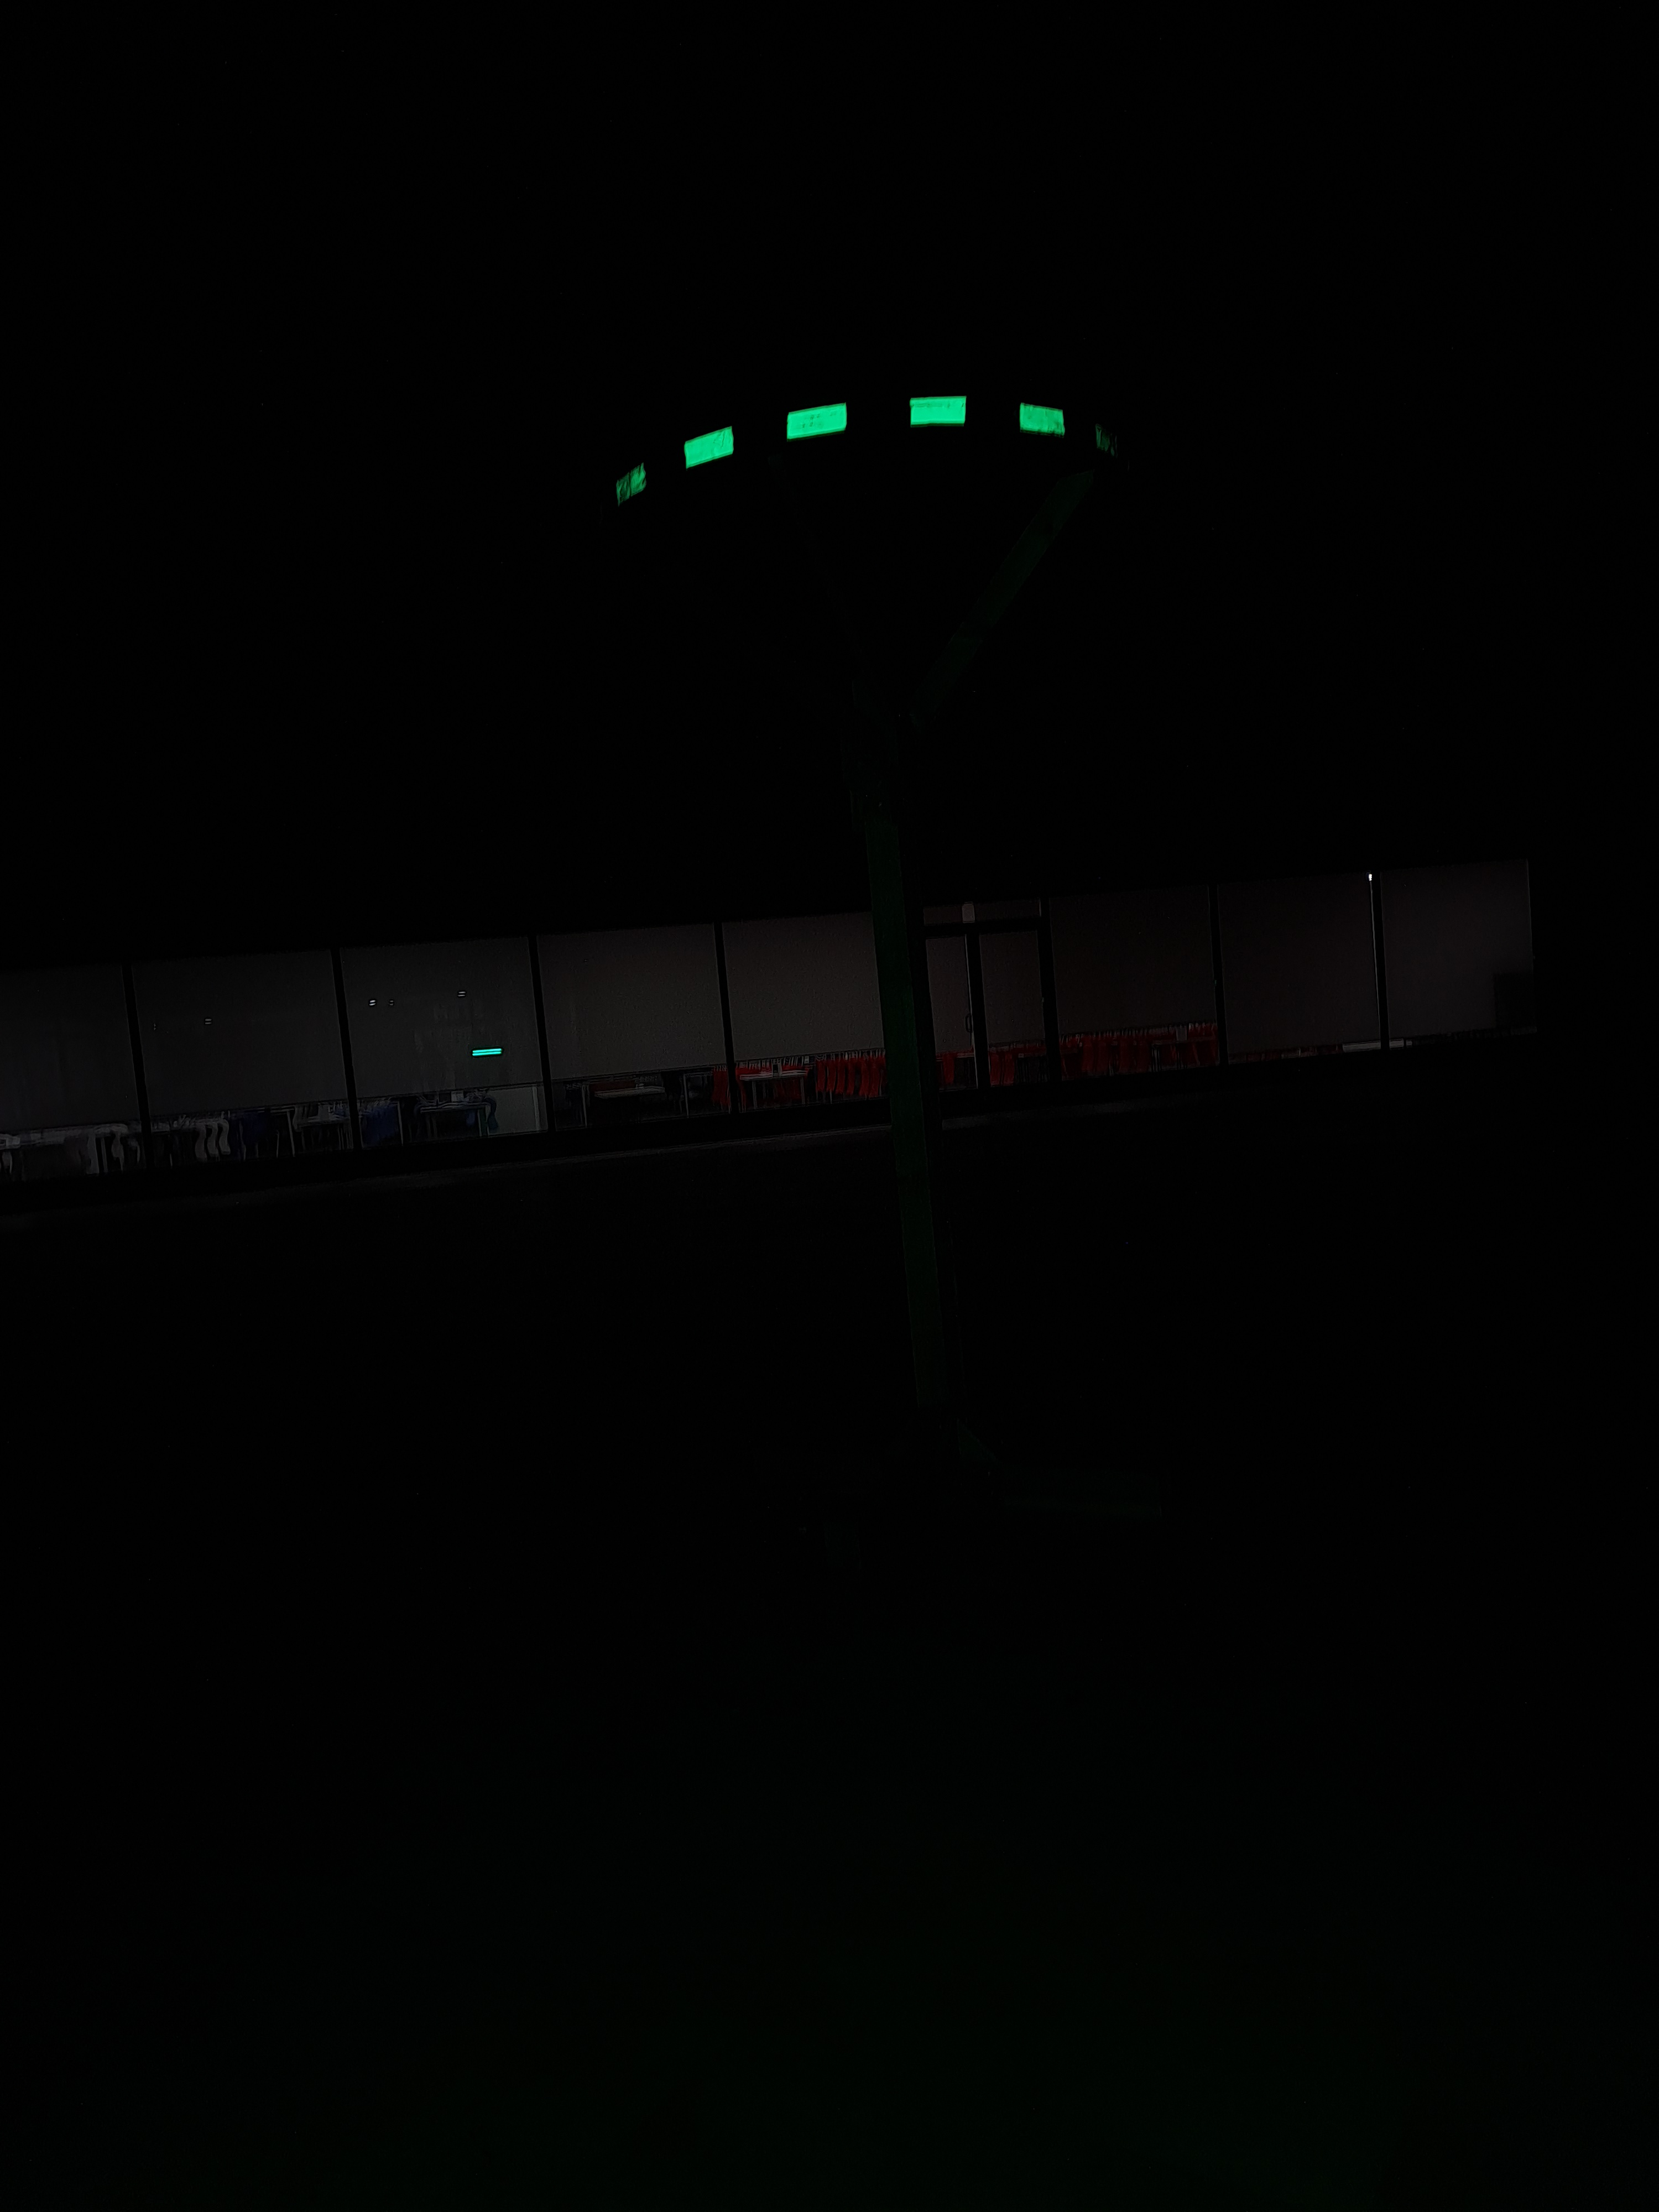hoop: (596, 385, 1075, 503)
